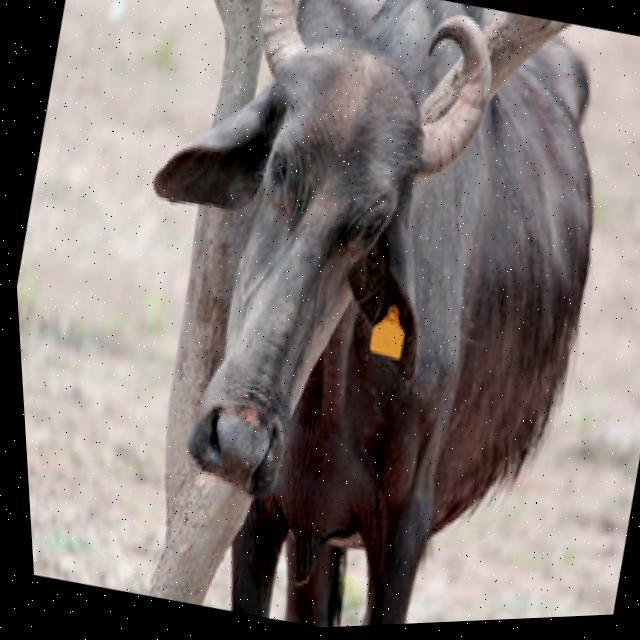Buffalo: (47, 0, 640, 638)
